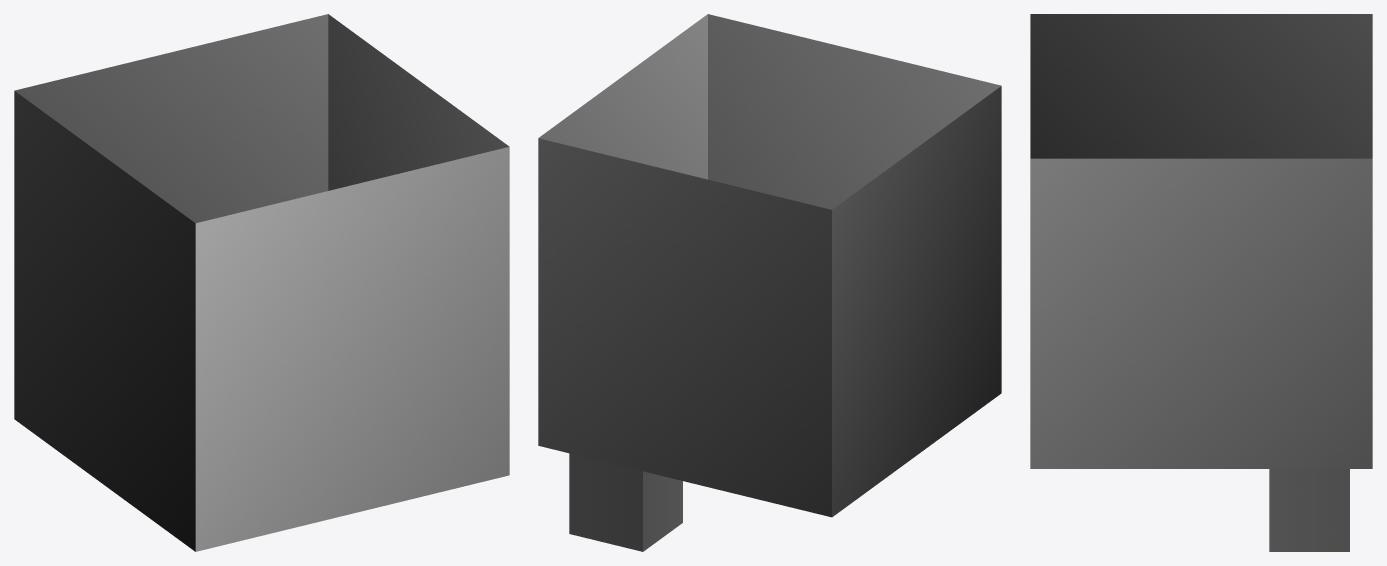
The model's file is level0.obj.
3 views of the same model, side by side, from view 1: azimuth 30°, elevation 25°; view 2: azimuth 150°, elevation 25°; view 3: azimuth 270°, elevation 25° (orthographic). The views are drawn at different scales.
Visible parts, largest first — view 1: Cube.001; view 2: Cube.001; view 3: Cube.001.
Part boxes in pixels (<box>): Cube.001: <box>14,14,509,551</box>; Cube.001: <box>538,14,1001,551</box>; Cube.001: <box>1030,14,1372,551</box>.
Bounding box in the file's own units: 40 × 51.93 × 40.
1 material, 1 textured.
